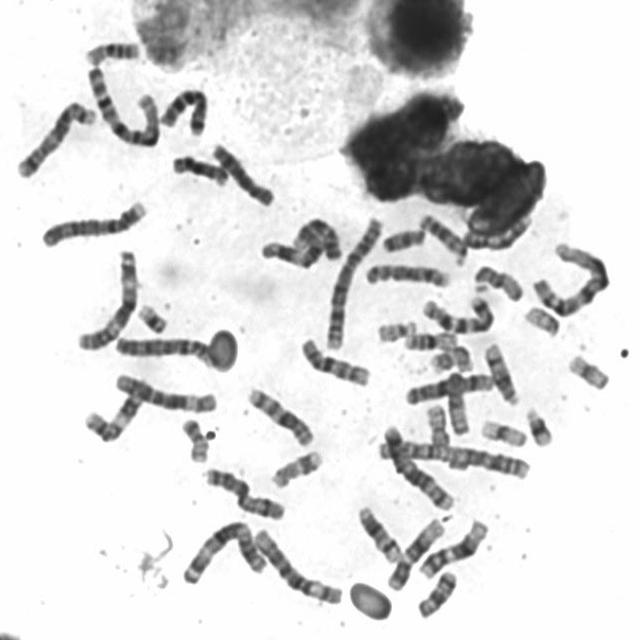A1: (529, 239, 613, 319), (86, 67, 160, 148)
A2: (324, 216, 385, 350), (376, 440, 531, 483)
A3: (76, 248, 136, 352), (182, 519, 268, 587)
B4: (42, 198, 149, 248), (113, 335, 216, 371)
B5: (15, 100, 97, 181), (382, 423, 455, 511)
C10: (246, 388, 316, 448), (301, 336, 370, 389)
C11: (84, 384, 147, 445), (259, 234, 324, 267)
C12: (386, 516, 446, 591), (419, 518, 490, 580)
C6: (252, 529, 343, 606), (115, 373, 218, 414)
C7: (423, 296, 495, 334), (159, 89, 211, 137)
C8: (211, 143, 277, 209), (363, 265, 452, 289)
C9: (462, 214, 534, 251), (292, 217, 344, 262)
D13: (418, 213, 468, 267), (171, 154, 229, 188)
D14: (356, 504, 402, 563), (483, 343, 519, 407)
D15: (473, 265, 525, 302), (445, 372, 471, 435)
E16: (84, 39, 139, 67), (402, 333, 458, 352)
E17: (270, 449, 324, 488), (426, 344, 475, 373)
E18: (416, 570, 457, 619), (380, 228, 426, 254)
F19: (567, 355, 612, 391), (479, 419, 528, 448)
F20: (179, 417, 210, 462), (425, 404, 452, 448)
G21: (525, 407, 554, 449), (137, 303, 169, 335)
G22: (525, 304, 561, 339), (374, 319, 418, 344)
X: (201, 468, 286, 522), (404, 373, 496, 407)
